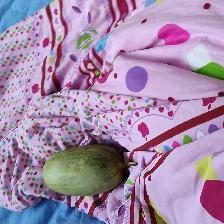gua: (42, 152, 121, 186)
